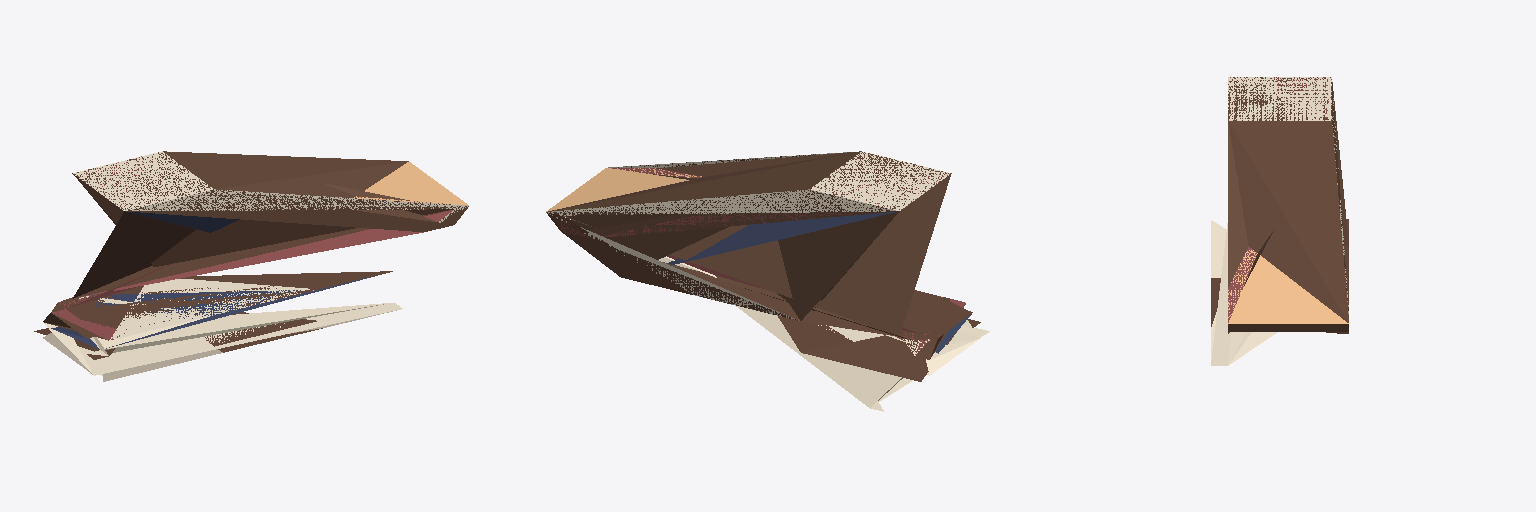
3 views of the same model, side by side, from view 1: azimuth 30°, elevation 25°; view 2: azimuth 150°, elevation 25°; view 3: azimuth 270°, elevation 25° (orthographic).
Bounding box in the file's own units: 25 × 13 × 8.
1 materials, 1 textured.